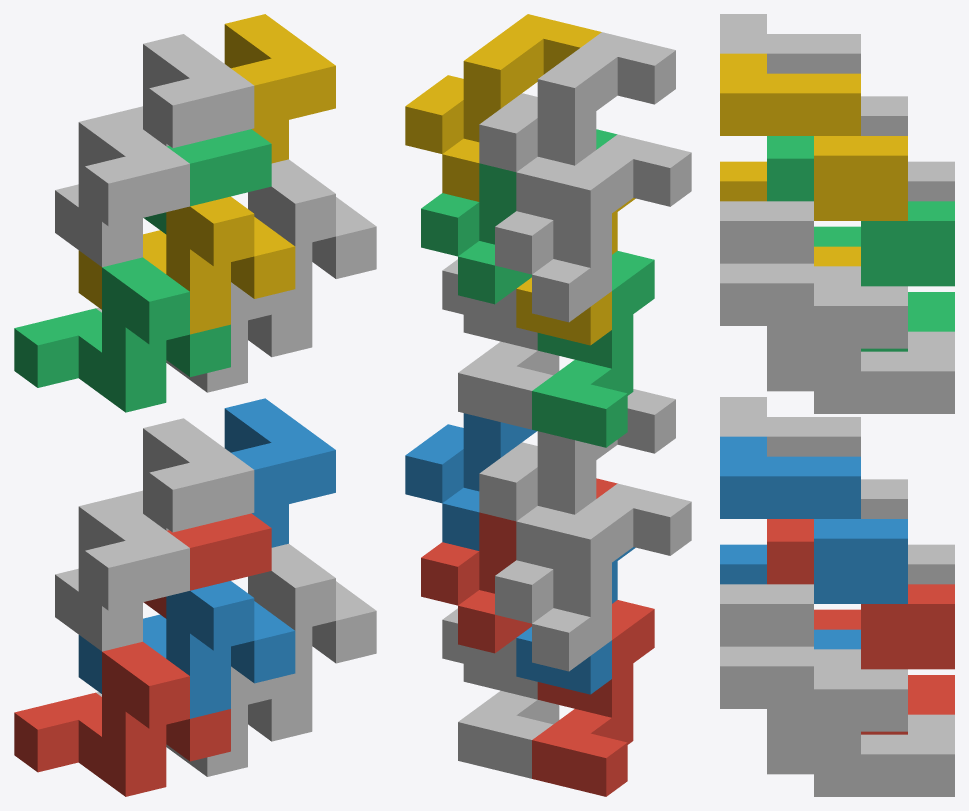
The model's file is tiling.obj.
The picture shows the model from 3 angles, left to right: view 1: azimuth 30°, elevation 25°; view 2: azimuth 150°, elevation 25°; view 3: azimuth 270°, elevation 25°; orthographic projection. The views are drawn at different scales.
Visible parts, largest first — view 1: copy_1_domain_3, copy_1_domain_1, copy_2_domain_3, copy_2_domain_1, copy_1_domain_4, copy_1_domain_2, copy_1_domain_8, copy_1_domain_6, copy_2_domain_2, copy_2_domain_4, copy_2_domain_6, copy_2_domain_8 (+4 smaller); view 2: copy_2_domain_1, copy_2_domain_3, copy_2_domain_4, copy_2_domain_8, copy_2_domain_2, copy_1_domain_1, copy_1_domain_3, copy_2_domain_6, copy_2_domain_5, copy_2_domain_7, copy_1_domain_7, copy_1_domain_5 (+4 smaller); view 3: copy_1_domain_6, copy_1_domain_8, copy_2_domain_6, copy_2_domain_8, copy_1_domain_5, copy_1_domain_7, copy_2_domain_5, copy_2_domain_7, copy_2_domain_2, copy_2_domain_4, copy_1_domain_1, copy_1_domain_3 (+4 smaller).
Part boxes in pixels (x1,y1,x2,y2): copy_1_domain_3: (14, 257, 230, 412); copy_1_domain_1: (14, 641, 230, 796); copy_2_domain_3: (55, 112, 189, 267); copy_2_domain_1: (55, 496, 189, 651); copy_1_domain_4: (78, 196, 295, 334); copy_1_domain_2: (78, 581, 295, 718); copy_1_domain_8: (248, 159, 376, 314); copy_1_domain_6: (248, 543, 376, 698); copy_2_domain_2: (120, 418, 254, 532); copy_2_domain_4: (120, 34, 254, 147); copy_2_domain_6: (224, 398, 335, 547); copy_2_domain_8: (224, 14, 335, 163); copy_2_domain_1: (495, 483, 691, 671); copy_2_domain_3: (495, 134, 691, 322); copy_2_domain_4: (479, 32, 675, 219); copy_2_domain_8: (405, 14, 601, 201); copy_2_domain_2: (479, 389, 675, 568); copy_1_domain_1: (532, 600, 654, 796); copy_1_domain_3: (532, 251, 654, 447); copy_2_domain_6: (405, 413, 536, 550); copy_2_domain_5: (421, 478, 617, 653); copy_2_domain_7: (421, 129, 617, 304); copy_1_domain_7: (458, 315, 559, 429); copy_1_domain_5: (458, 664, 559, 778); copy_1_domain_6: (720, 584, 907, 731); copy_1_domain_8: (720, 201, 907, 348); copy_2_domain_6: (720, 436, 907, 603); copy_2_domain_8: (720, 53, 907, 220); copy_1_domain_5: (767, 649, 954, 796); copy_1_domain_7: (767, 266, 954, 413); copy_2_domain_5: (767, 519, 954, 669); copy_2_domain_7: (767, 136, 954, 286); copy_2_domain_2: (720, 397, 907, 518); copy_2_domain_4: (720, 14, 907, 135); copy_1_domain_1: (814, 609, 954, 734); copy_1_domain_3: (814, 226, 954, 351).
Bounding box in the file's own units: 6 × 17 × 5.
